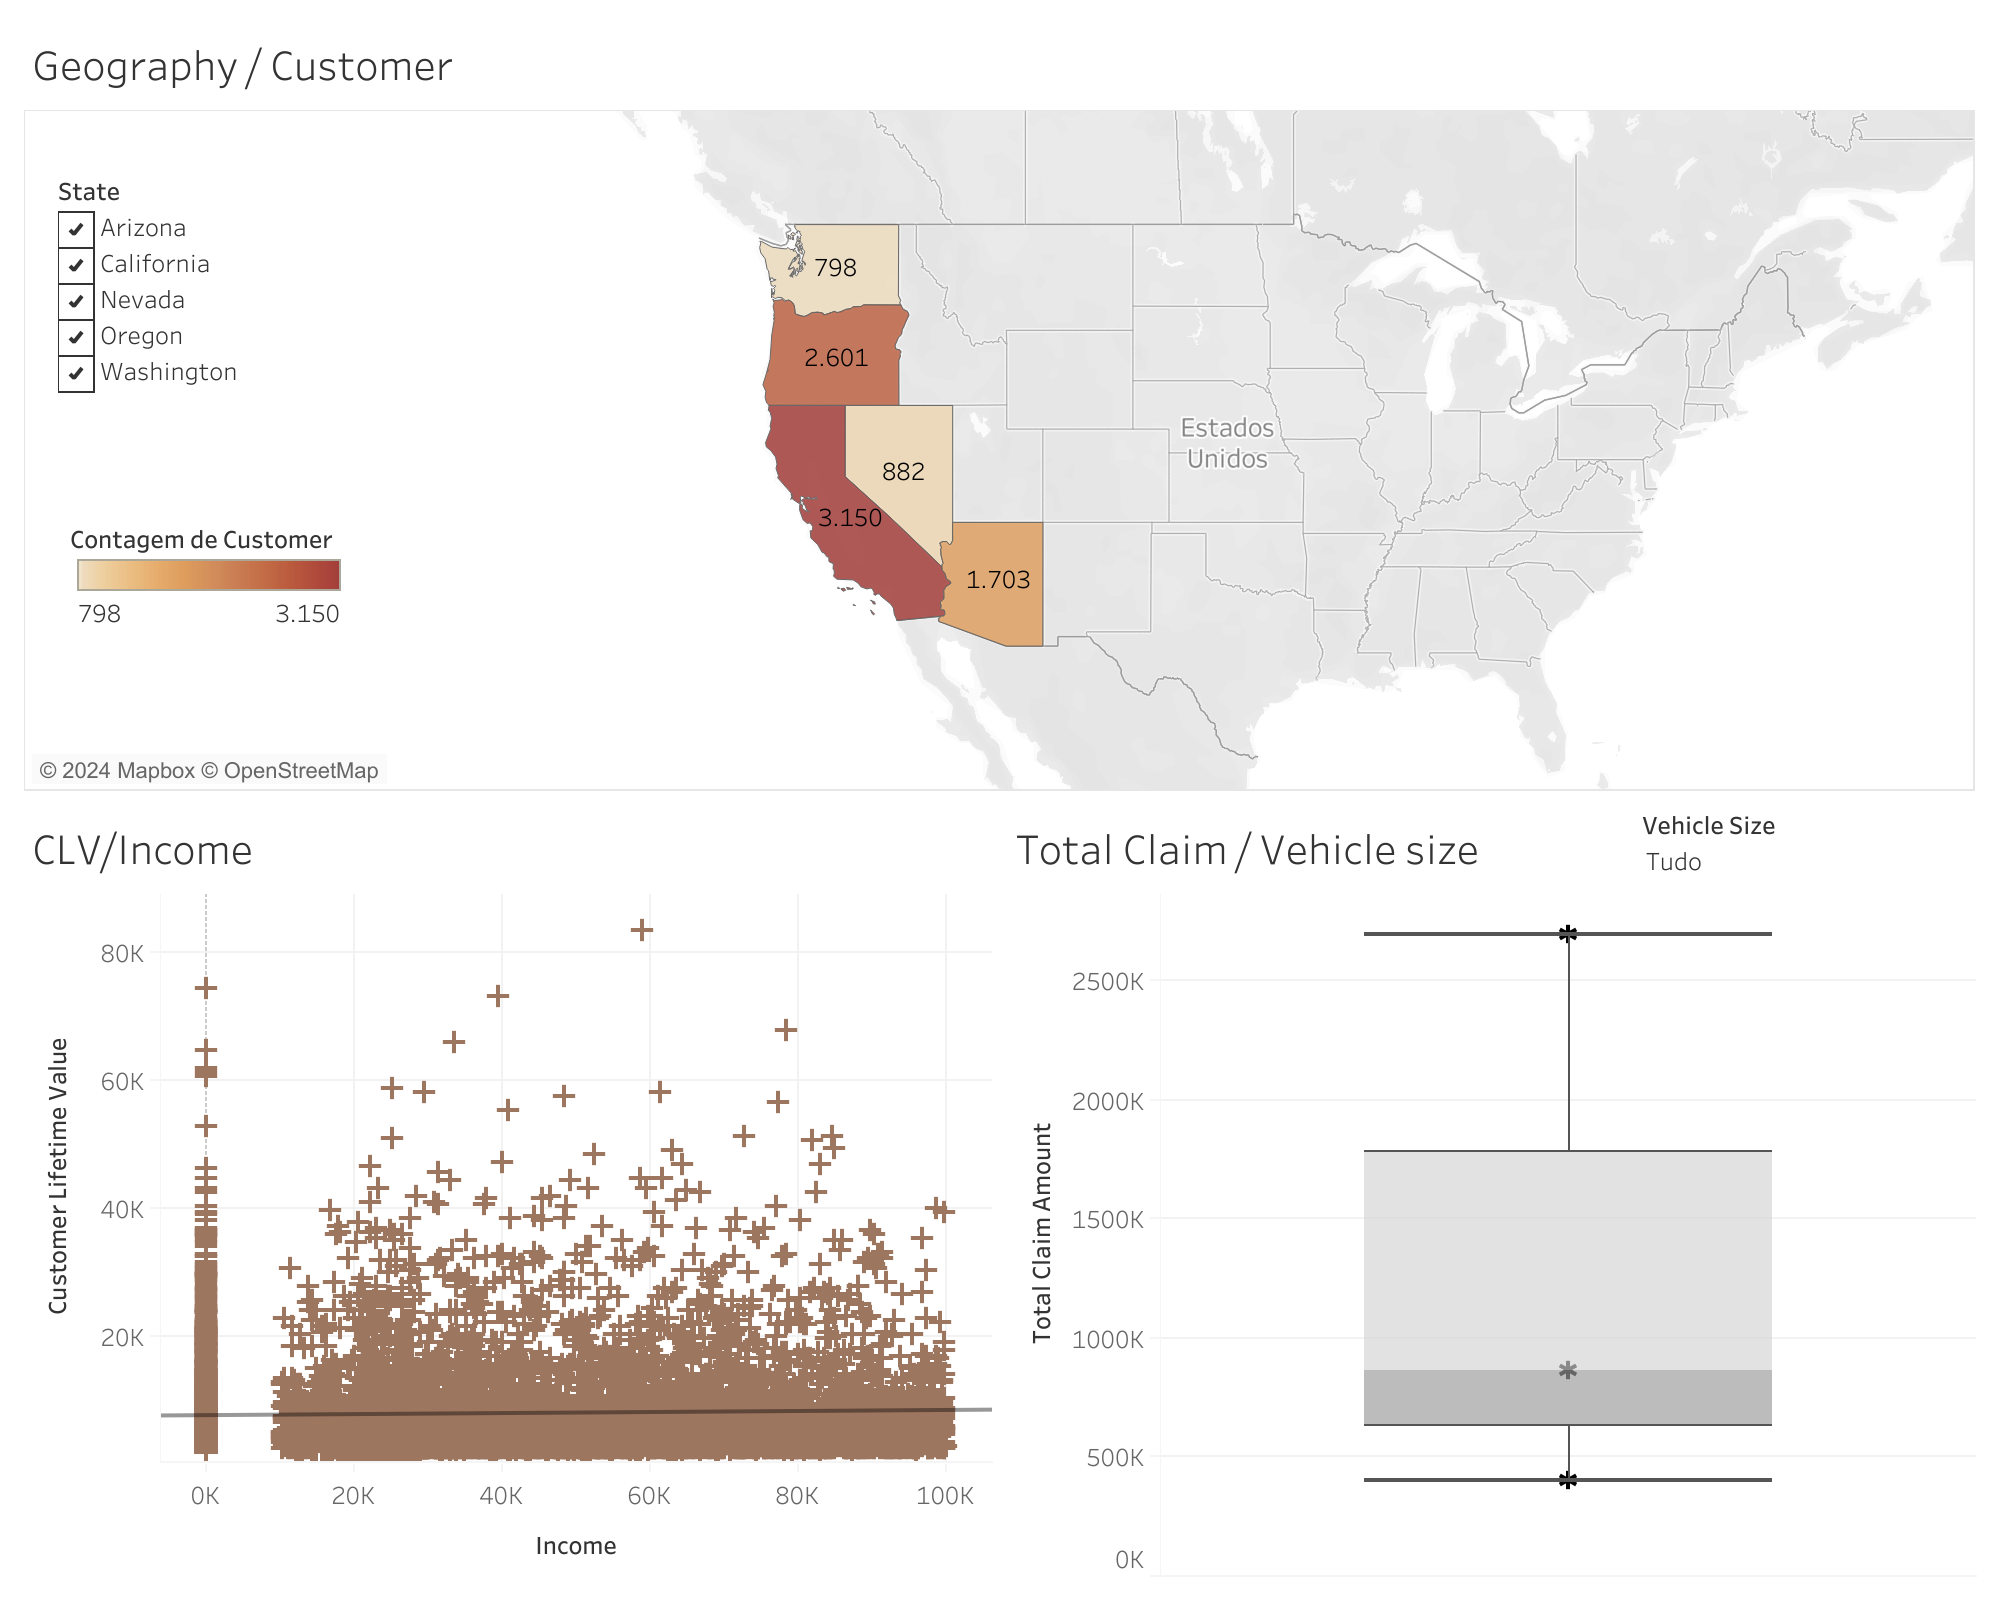

Layout of this report page (visuals, bound fields, positions):
{"tool":"tableau","page":{"name":"MC Values and Demography","canvas":[1000,800],"ordinal":0},"visuals":[{"type":"worksheet","title":"Geography / Customer","mark":"Multipolygon","box":[8,8,984,392]},{"type":"filter","title":"Geography / Customer","param":"[federated.1h2lp3s1amti4y1952tor18kfazh].[none:State:nk]","box":[29,85,168,146]},{"type":"legend","title":"Geography / Customer","param":"[federated.1h2lp3s1amti4y1952tor18kfazh].[cnt:Customer:qk]","box":[35,256,140,76]},{"type":"worksheet","title":"CLV/Income","mark":"Automatic","rows":["Customer Lifetime Value"],"cols":["Income"],"box":[8,400,492,392]},{"type":"worksheet","title":"Total Claim / Vehicle size","mark":"Shape","rows":["Total Claim Amount"],"box":[500,400,492,392]},{"type":"filter","title":"Total Claim / Vehicle size","param":"[federated.1h2lp3s1amti4y1952tor18kfazh].[none:Vehicle Size:nk]","box":[821,402,168,108]}]}

Visuals, with their boxes in screenshot pixels (x1, y1, x2, y2), scaled from the page's 1000x800 canvas onto the 1998x1598 screenshot:
"Geography / Customer" worksheet (Multipolygon marks): [left=16, top=16, right=1982, bottom=799]
"Geography / Customer" filter: [left=58, top=170, right=394, bottom=461]
"Geography / Customer" legend: [left=70, top=511, right=350, bottom=663]
"CLV/Income" worksheet: [left=16, top=799, right=999, bottom=1582]
"Total Claim / Vehicle size" worksheet (Shape marks): [left=999, top=799, right=1982, bottom=1582]
"Total Claim / Vehicle size" filter: [left=1640, top=803, right=1976, bottom=1019]
